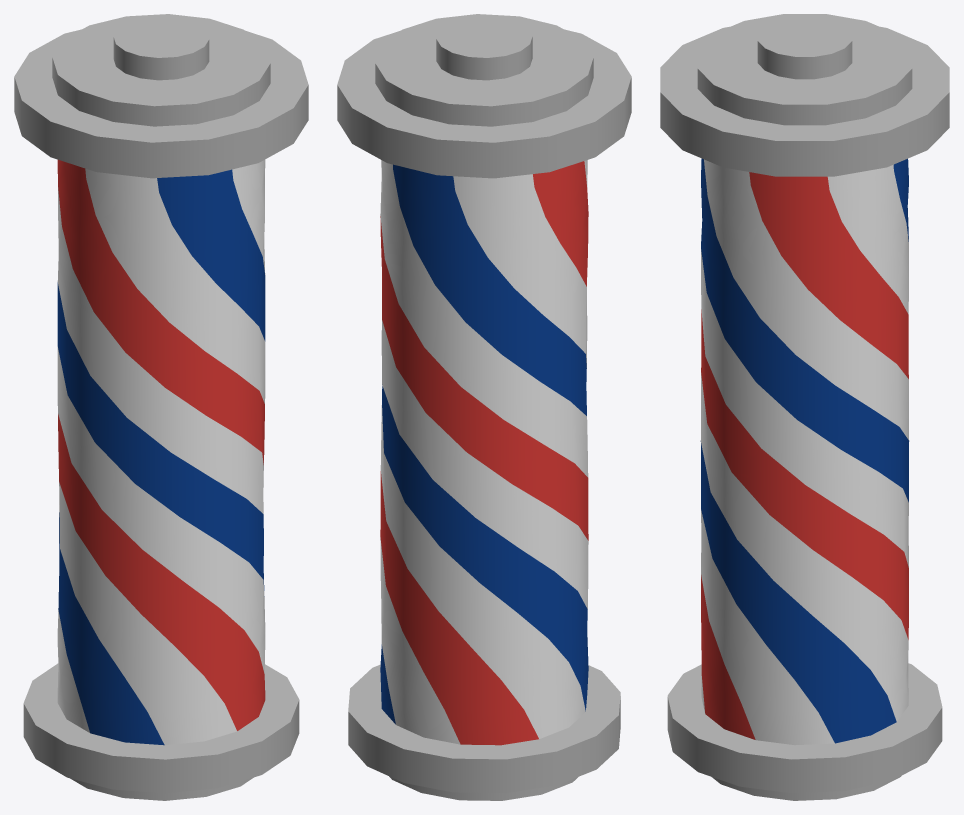
File: barber_pole.fbx
3 renders of one model, left to right at view 1: azimuth 30°, elevation 25°; view 2: azimuth 150°, elevation 25°; view 3: azimuth 270°, elevation 25°, orthographic.
Visible parts, largest first — view 1: Cylinder.432; view 2: Cylinder.432; view 3: Cylinder.432.
Part boxes in pixels (left/top/right/bottom): Cylinder.432: left=14, top=14, right=308, bottom=800; Cylinder.432: left=337, top=14, right=631, bottom=800; Cylinder.432: left=660, top=14, right=949, bottom=800.
Bounding box in the file's own units: 76.99 × 212 × 76.99.
1 material, 1 textured.
